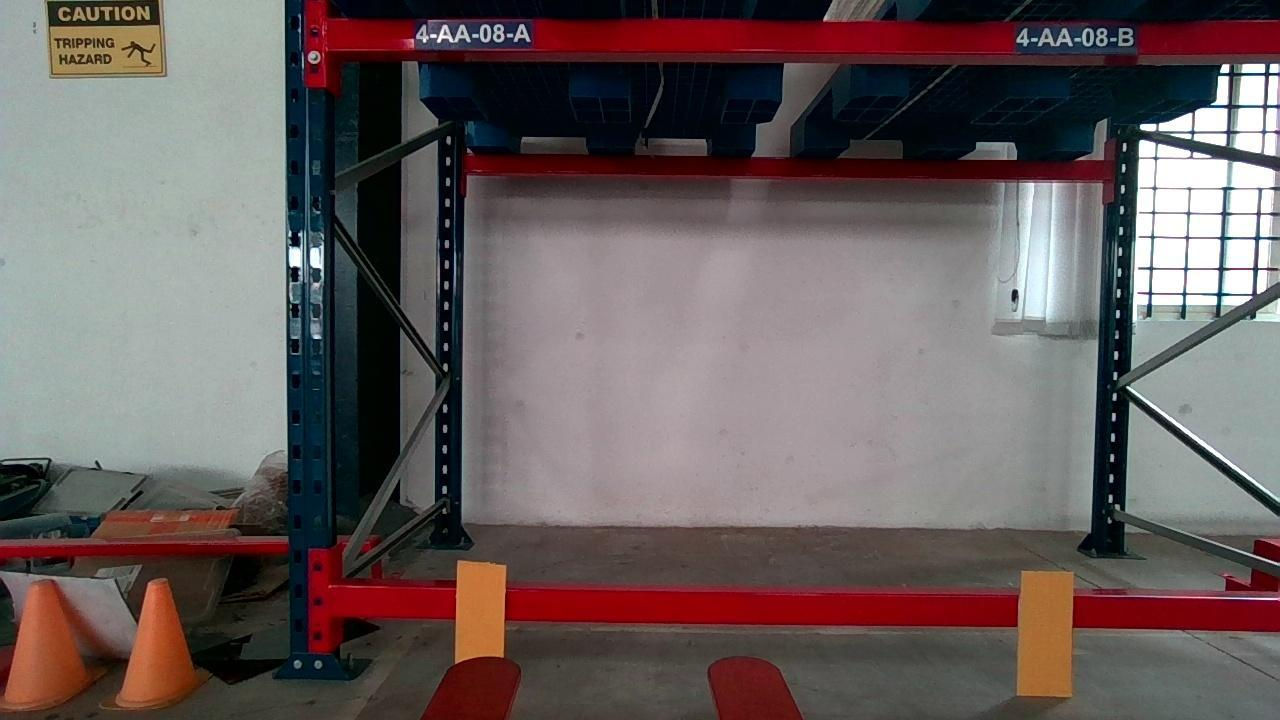h_rack: (327, 590, 1280, 632), (323, 17, 1279, 53)
orange_strip: (1017, 571, 1075, 697), (452, 558, 506, 662)
